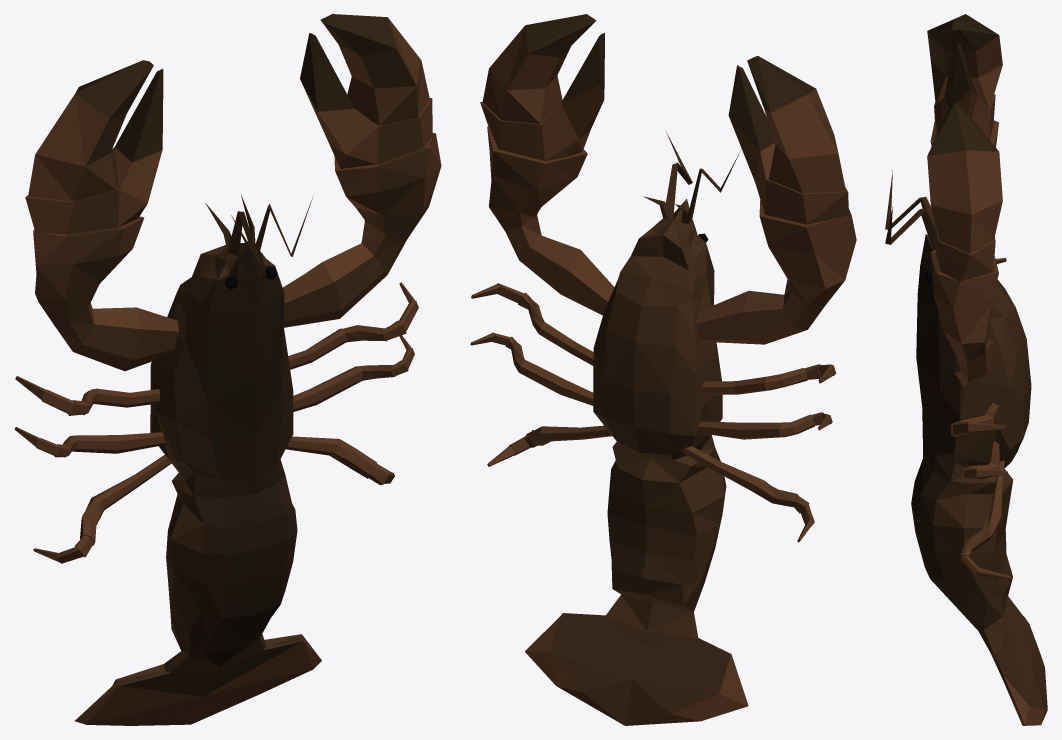
Rendered from Lobster.glb.
3 views of the same model, side by side, from view 1: azimuth 30°, elevation 25°; view 2: azimuth 150°, elevation 25°; view 3: azimuth 270°, elevation 25° (orthographic). The views are drawn at different scales.
Parts seen in each view (by area): view 1: Lobster; view 2: Lobster; view 3: Lobster.
Boxes of the visible parts, x1,y1,x2,y2 form: Lobster: (14, 14, 441, 725); Lobster: (470, 14, 856, 725); Lobster: (885, 14, 1047, 725).
Size of the model in its own units: 0.2181 by 0.3715 by 0.0845.
1 material, 1 textured.
